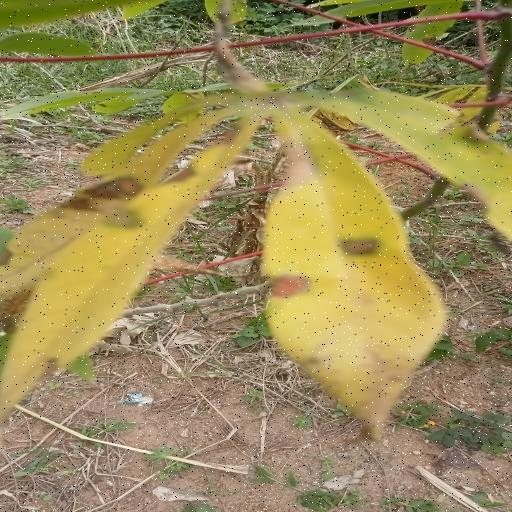Cassava_Brown_Leaf_Spot: (0, 80, 512, 442)
